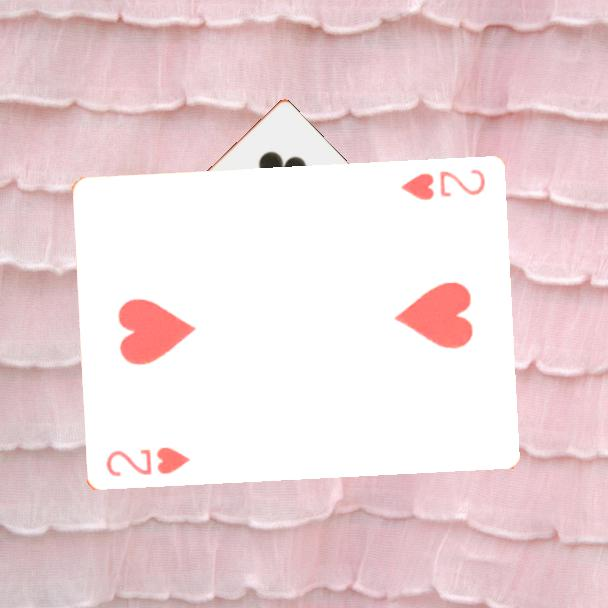h02: (397, 166, 488, 204), (102, 444, 193, 480)
